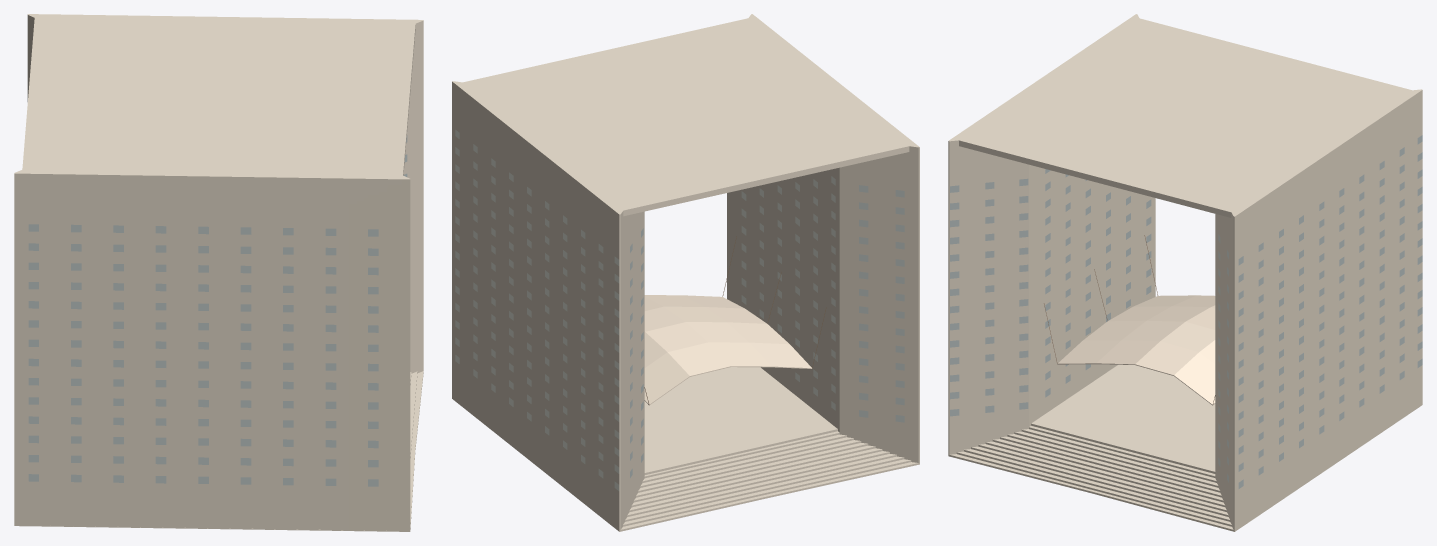
File: detail.glb
3 renders of one model, left to right at view 1: azimuth 30°, elevation 25°; view 2: azimuth 150°, elevation 25°; view 3: azimuth 270°, elevation 25°, orthographic. The views are drawn at different scales.
Visible parts, largest first — view 1: stone, window; view 2: stone, trim, window; view 3: stone, window, trim.
Part boxes in pixels (x1,y1,x2,y2): stone: (14, 14, 423, 531); window: (28, 135, 407, 486); stone: (452, 14, 919, 531); trim: (644, 295, 812, 405); window: (455, 129, 904, 490); stone: (948, 14, 1422, 531); window: (950, 135, 1422, 488); trim: (1057, 295, 1215, 405).
Bounding box in the file's own units: 152 × 110 × 150.
